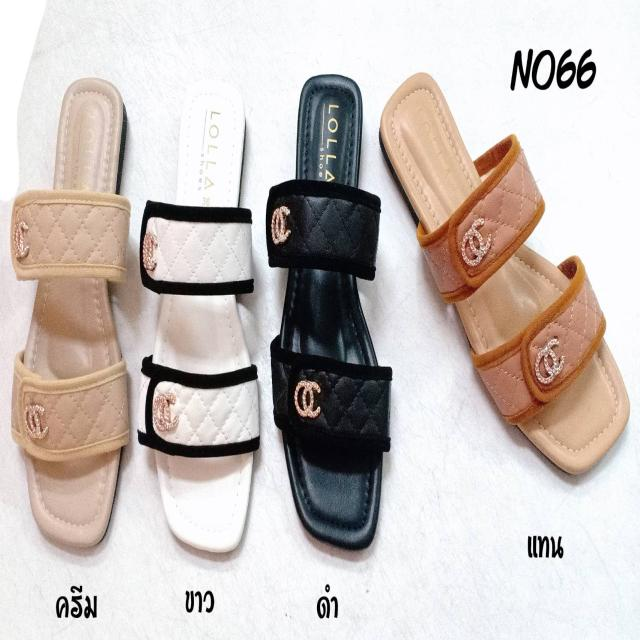black: (277, 73, 383, 540)
cream: (19, 77, 129, 554)
tan: (380, 68, 631, 476)
white: (146, 76, 261, 548)
